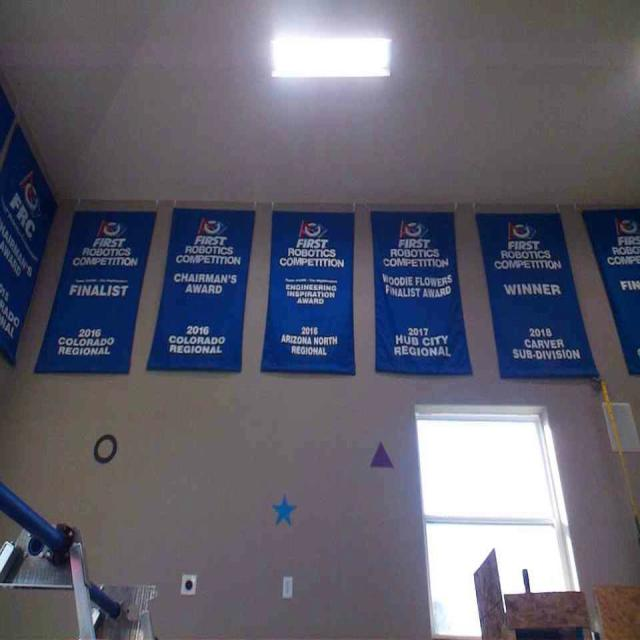ring_black: (92, 433, 118, 463)
star_blue: (271, 490, 297, 526)
triangle_purple: (368, 441, 394, 467)
